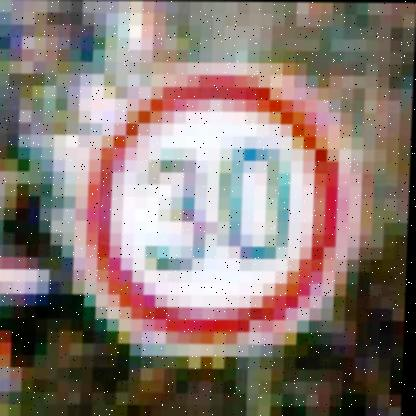Speed Limit -30-: (75, 57, 377, 360)
